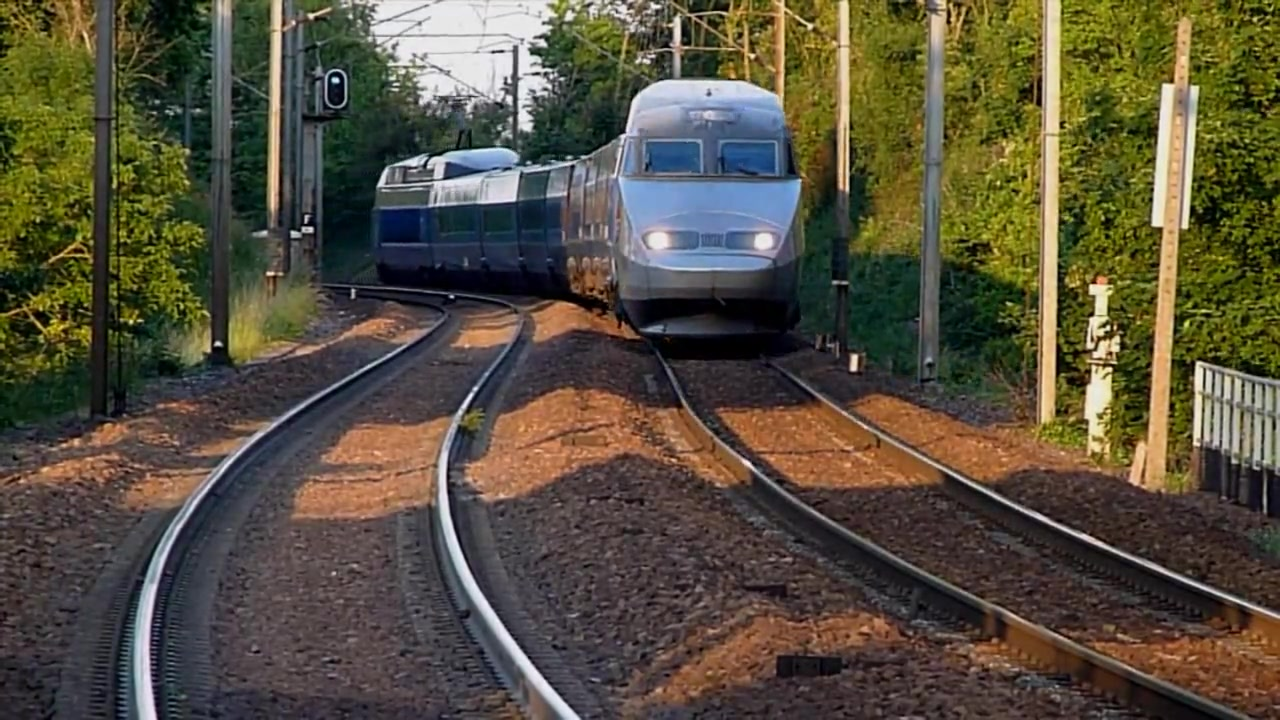train: (368, 77, 814, 354)
